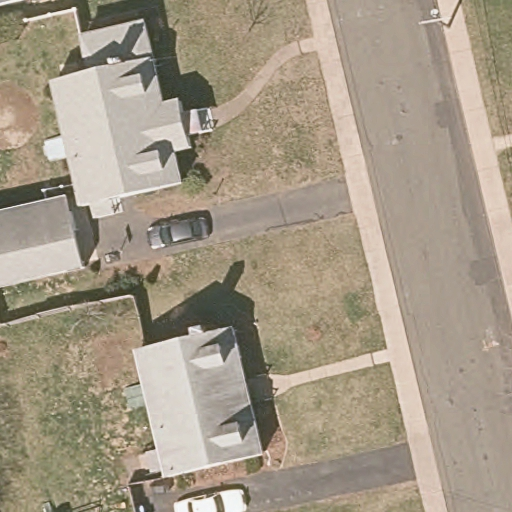DT: (418, 5, 456, 27)
